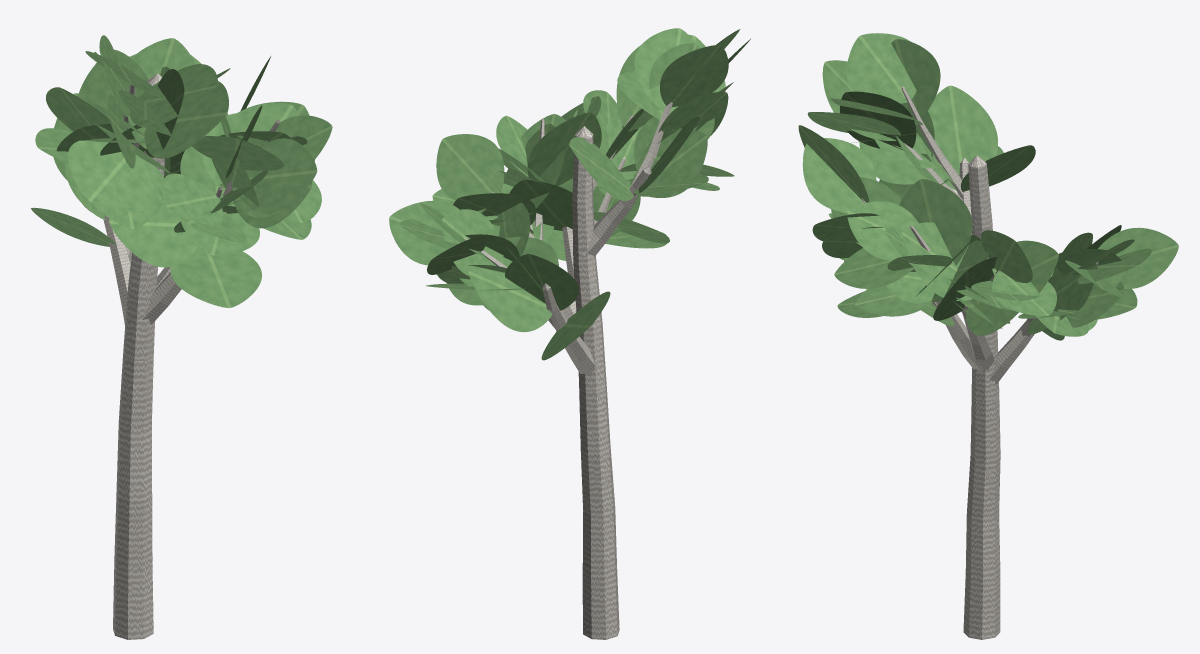
File: 자작나무_01.fbx
The picture shows the model from 3 angles, left to right: view 1: azimuth 30°, elevation 25°; view 2: azimuth 150°, elevation 25°; view 3: azimuth 270°, elevation 25°; orthographic projection. The views are drawn at different scales.
Visible parts, largest first — view 1: 자작나무_01; view 2: 자작나무_01; view 3: 자작나무_01.
Boxes of the visible parts, x1,y1,x2,y2 form: 자작나무_01: [31, 35, 332, 639]; 자작나무_01: [389, 28, 750, 639]; 자작나무_01: [798, 33, 1178, 639].
Bounding box in the file's own units: 4469 × 9120 × 5810.
2 materials, 2 textured.
